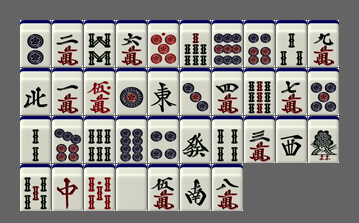0m: (84, 68, 115, 115)
0p: (148, 20, 179, 67)
0s: (84, 164, 115, 211)
1m: (52, 68, 83, 115)
1p: (116, 68, 147, 115)
1s: (308, 116, 339, 163)
1z: (148, 68, 179, 115)
2m: (52, 20, 83, 67)
2p: (20, 20, 51, 67)
2s: (20, 116, 51, 163)
2z: (180, 164, 211, 211)
3m: (244, 116, 275, 163)
3p: (180, 68, 211, 115)
3s: (276, 20, 307, 67)
3z: (276, 116, 307, 163)
4m: (212, 68, 243, 115)
4p: (148, 116, 179, 163)
4s: (212, 116, 243, 163)
4z: (20, 68, 51, 115)
5m: (148, 164, 179, 211)
5p: (308, 68, 339, 115)
5s: (20, 164, 51, 211)
5z: (116, 164, 147, 211)
6m: (116, 20, 147, 67)
6p: (244, 20, 275, 67)
6s: (84, 116, 115, 163)
6z: (180, 116, 211, 163)
7m: (276, 68, 307, 115)
7p: (52, 116, 83, 163)
7s: (180, 20, 211, 67)
7z: (52, 164, 83, 211)
8m: (212, 164, 243, 211)
8p: (116, 116, 147, 163)
8s: (84, 20, 115, 67)
9m: (308, 20, 339, 67)
9p: (212, 20, 243, 67)
9s: (244, 68, 275, 115)
